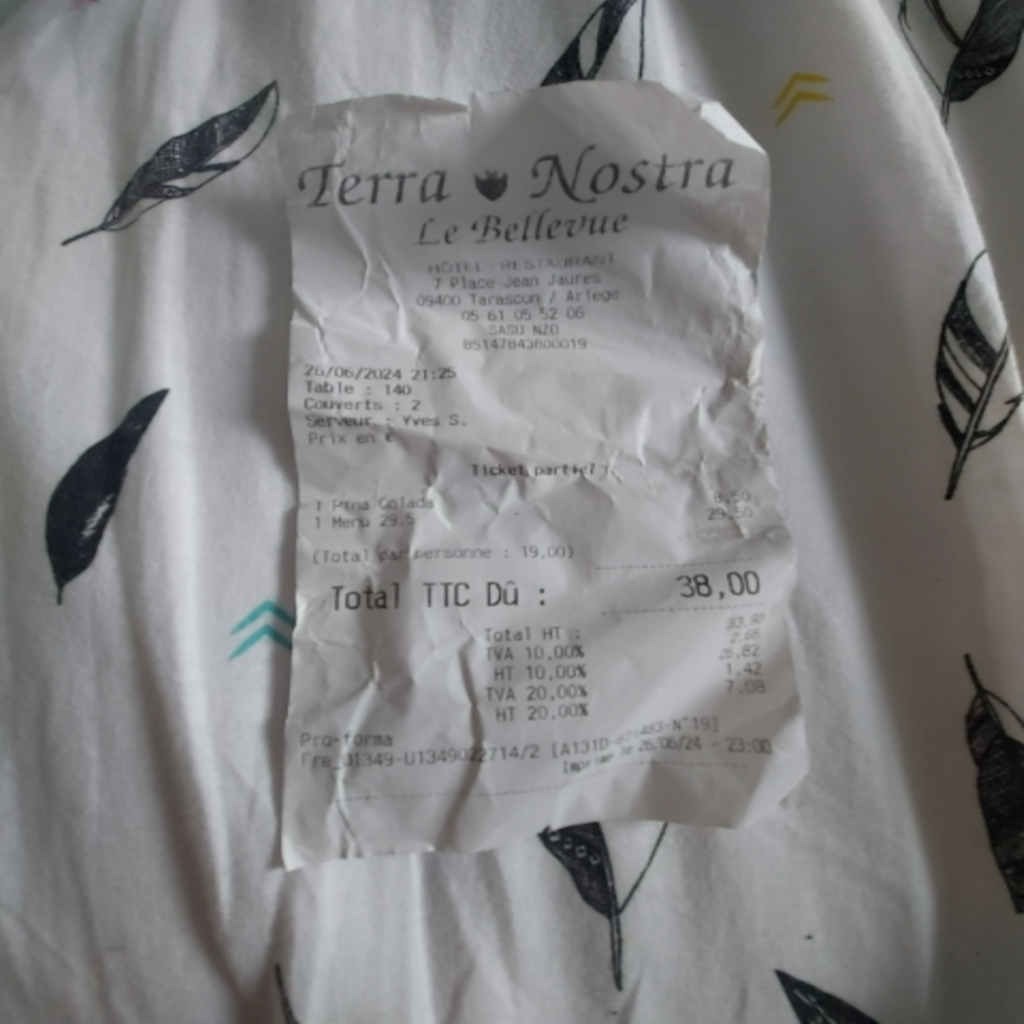recipt: (273, 76, 804, 865)
